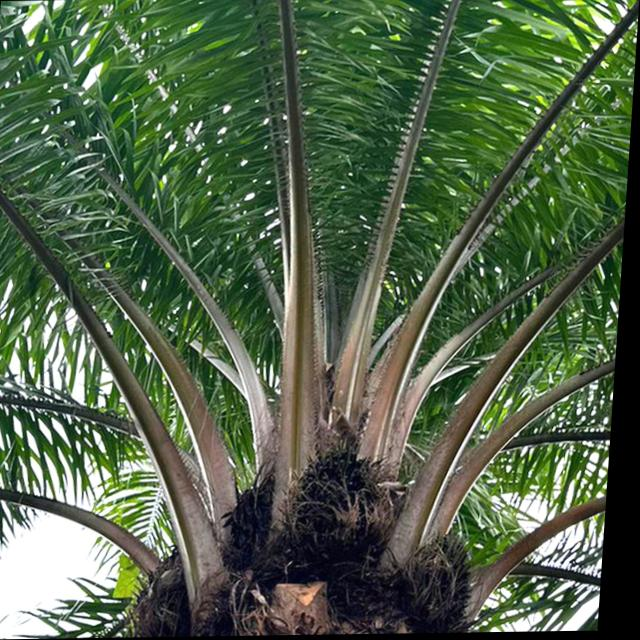unripe: (276, 435, 404, 564)
